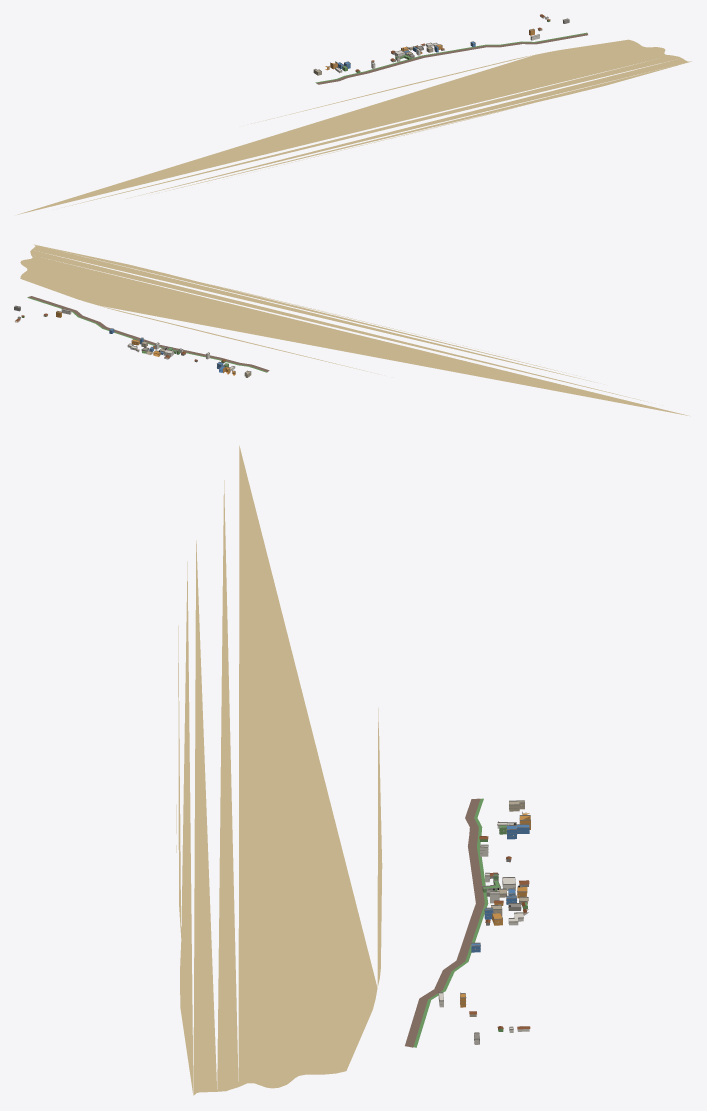
File: zone_t-3_-1.glb
The picture shows the model from 3 angles, top to bottom: view 1: azimuth 30°, elevation 25°; view 2: azimuth 150°, elevation 25°; view 3: azimuth 270°, elevation 25°; orthographic projection. The views are drawn at different scales.
Visible parts, largest first — view 1: zone_plage_t-3_-1, promenade_t-3_-1, piste_cyclable_t-3_-1, parapet_t-3_-1; view 2: zone_plage_t-3_-1, promenade_t-3_-1, parapet_t-3_-1, piste_cyclable_t-3_-1; view 3: zone_plage_t-3_-1, promenade_t-3_-1, parapet_t-3_-1.
Part boxes in pixels (bbox=[...]): zone_plage_t-3_-1: bbox=[17, 39, 691, 214]; promenade_t-3_-1: bbox=[316, 33, 587, 84]; piste_cyclable_t-3_-1: bbox=[315, 32, 586, 82]; parapet_t-3_-1: bbox=[313, 16, 569, 72]; zone_plage_t-3_-1: bbox=[20, 244, 690, 416]; promenade_t-3_-1: bbox=[28, 296, 269, 371]; parapet_t-3_-1: bbox=[14, 305, 250, 374]; piste_cyclable_t-3_-1: bbox=[27, 297, 267, 372]; zone_plage_t-3_-1: bbox=[176, 445, 382, 1095]; promenade_t-3_-1: bbox=[405, 798, 484, 1047]; parapet_t-3_-1: bbox=[438, 800, 530, 1038].
Size of the model in its own units: 1370 by 10.9 by 316.
